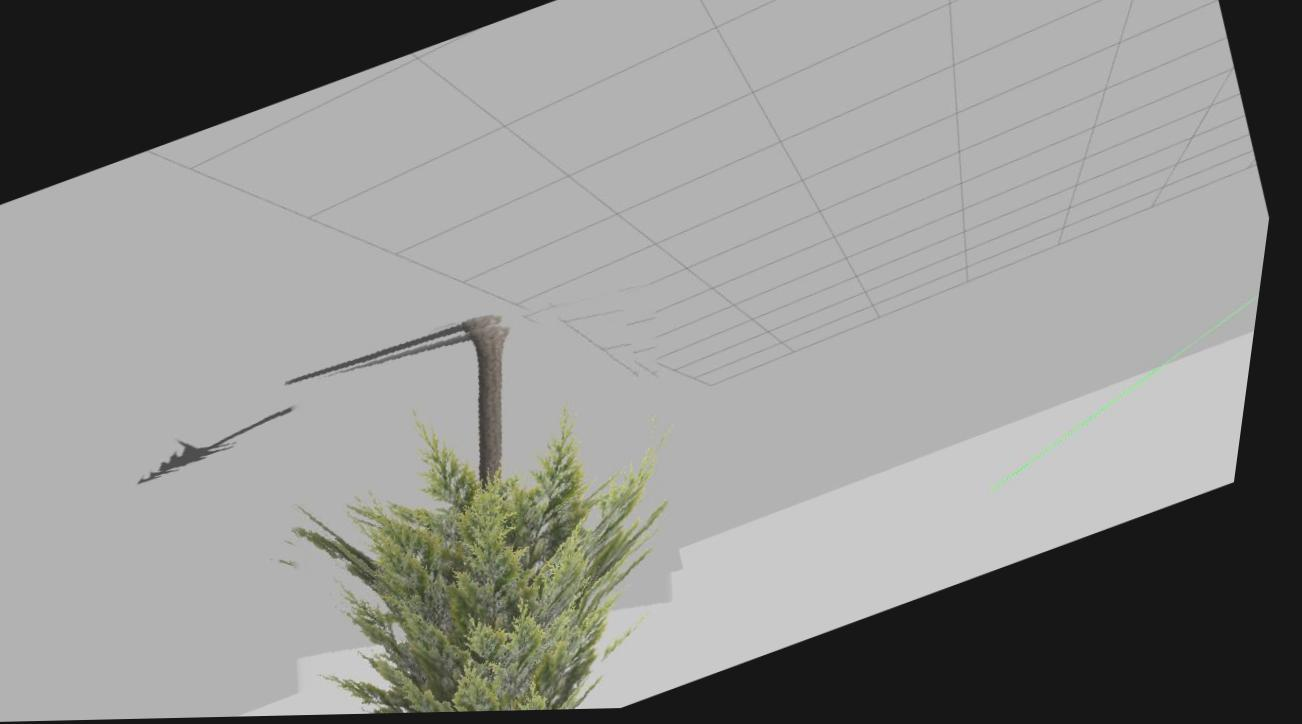tree_gazebo: (309, 325, 681, 716)
